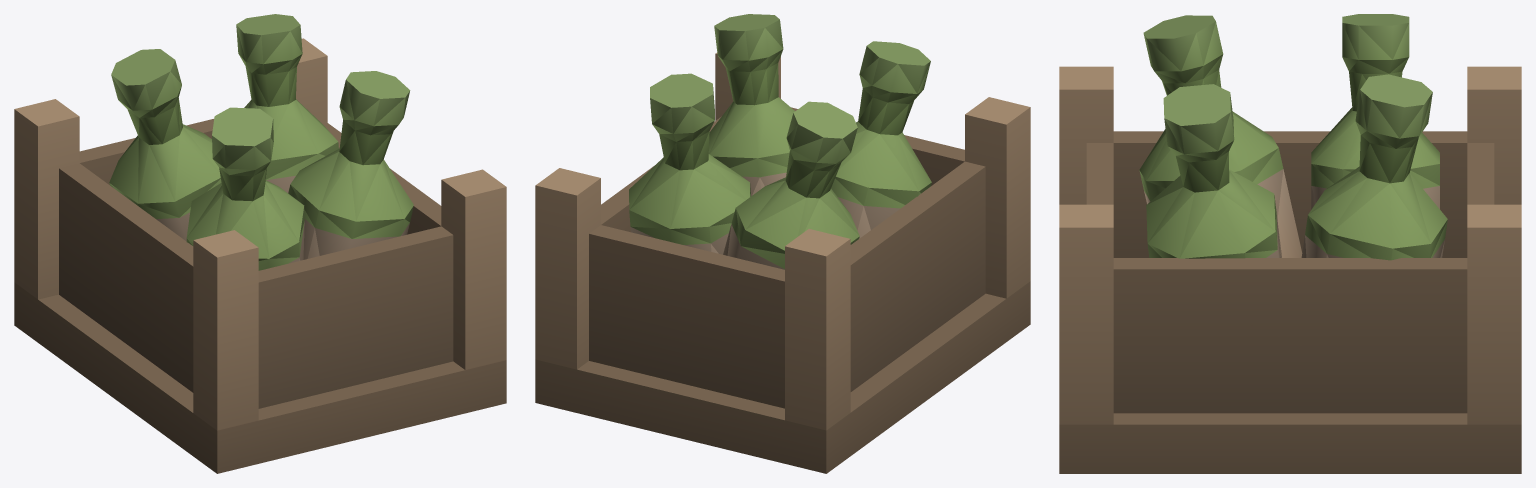
Rendered from K_Crate_Bottles.glb.
3 views of the same model, side by side, from view 1: azimuth 30°, elevation 25°; view 2: azimuth 150°, elevation 25°; view 3: azimuth 270°, elevation 25° (orthographic). The views are drawn at different scales.
Parts seen in each view (by area): view 1: K_Crate_Bottles; view 2: K_Crate_Bottles; view 3: K_Crate_Bottles.
Part boxes in pixels (x1=…): K_Crate_Bottles: x1=14, y1=14, x2=506, y2=473; K_Crate_Bottles: x1=535, y1=14, x2=1030, y2=473; K_Crate_Bottles: x1=1059, y1=14, x2=1521, y2=473.
Bounding box in the file's own units: 0.9163 × 0.8983 × 1.11.
